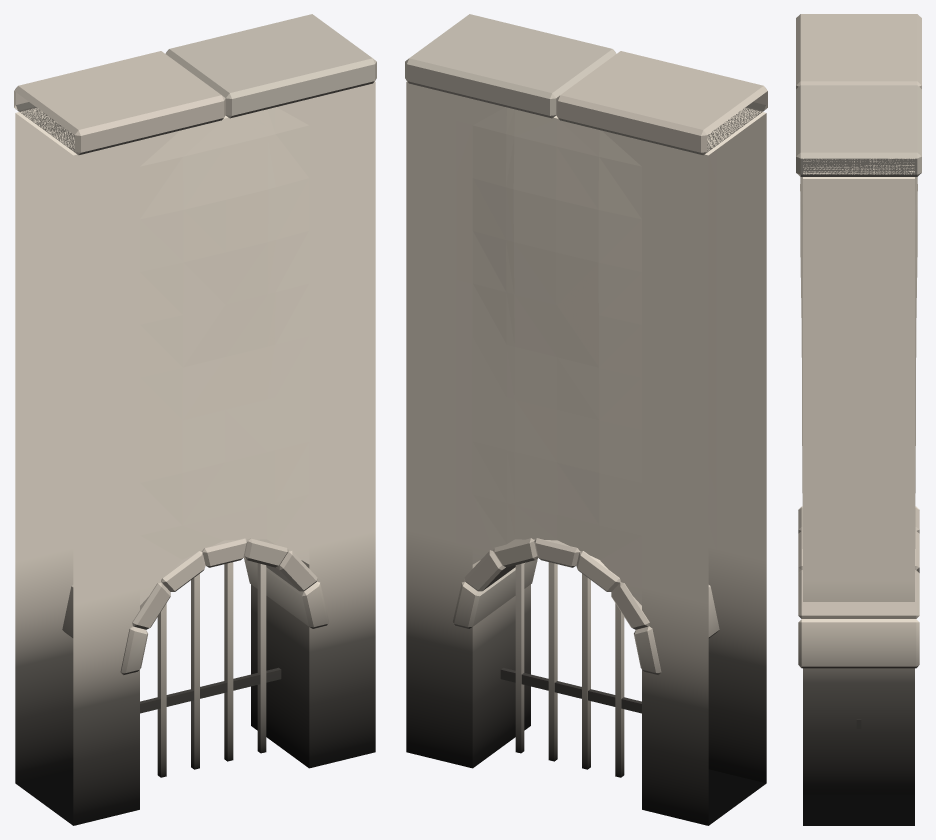
File: SM_VKI_Wall_Sewer_Culvert_150_Full.fbx
3 views of the same model, side by side, from view 1: azimuth 30°, elevation 25°; view 2: azimuth 150°, elevation 25°; view 3: azimuth 270°, elevation 25° (orthographic). The views are drawn at different scales.
Visible parts, largest first — view 1: SM_VKI_Wall_Sewer_Culvert_150_Full.001; view 2: SM_VKI_Wall_Sewer_Culvert_150_Full.001; view 3: SM_VKI_Wall_Sewer_Culvert_150_Full.001.
Part boxes in pixels (<box>): SM_VKI_Wall_Sewer_Culvert_150_Full.001: <box>14,14,376,825</box>; SM_VKI_Wall_Sewer_Culvert_150_Full.001: <box>405,14,767,825</box>; SM_VKI_Wall_Sewer_Culvert_150_Full.001: <box>796,14,921,825</box>.
Size of the model in its own units: 1.5 by 3.3 by 0.56.
